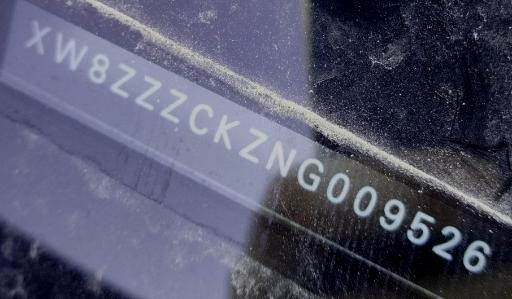letter: (54, 32, 86, 70), (235, 127, 269, 162), (265, 140, 297, 177), (108, 61, 138, 98), (432, 222, 462, 259), (460, 239, 494, 271), (406, 210, 436, 244), (134, 74, 162, 110), (160, 87, 188, 123), (296, 155, 324, 191), (210, 114, 240, 147), (186, 102, 214, 135), (23, 20, 51, 52), (350, 183, 378, 214), (380, 196, 406, 229), (324, 170, 348, 203), (88, 53, 110, 82)
